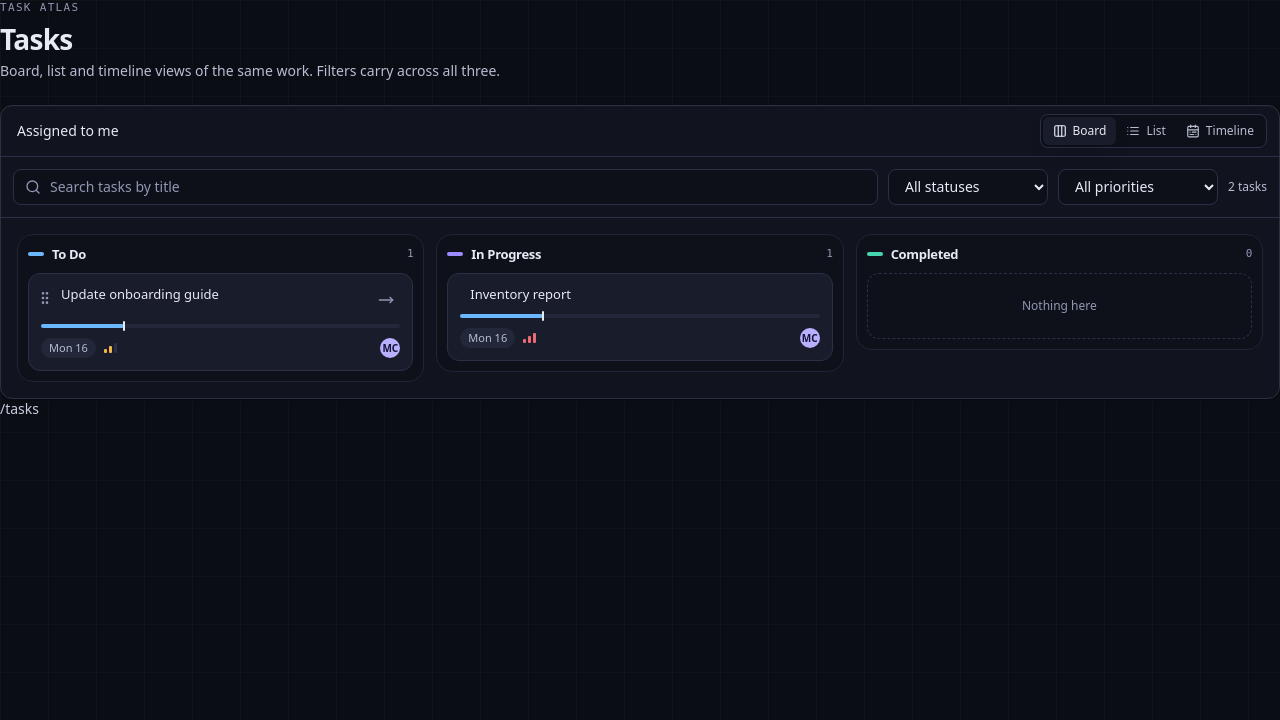
Scenario: Task Atlas › opens a task in the side panel and closes it with Escape
The width and height of the screenshot is (1280, 720).
Click the link "Update onboarding guide". click: click(140, 294)
box: [61, 285, 219, 303]
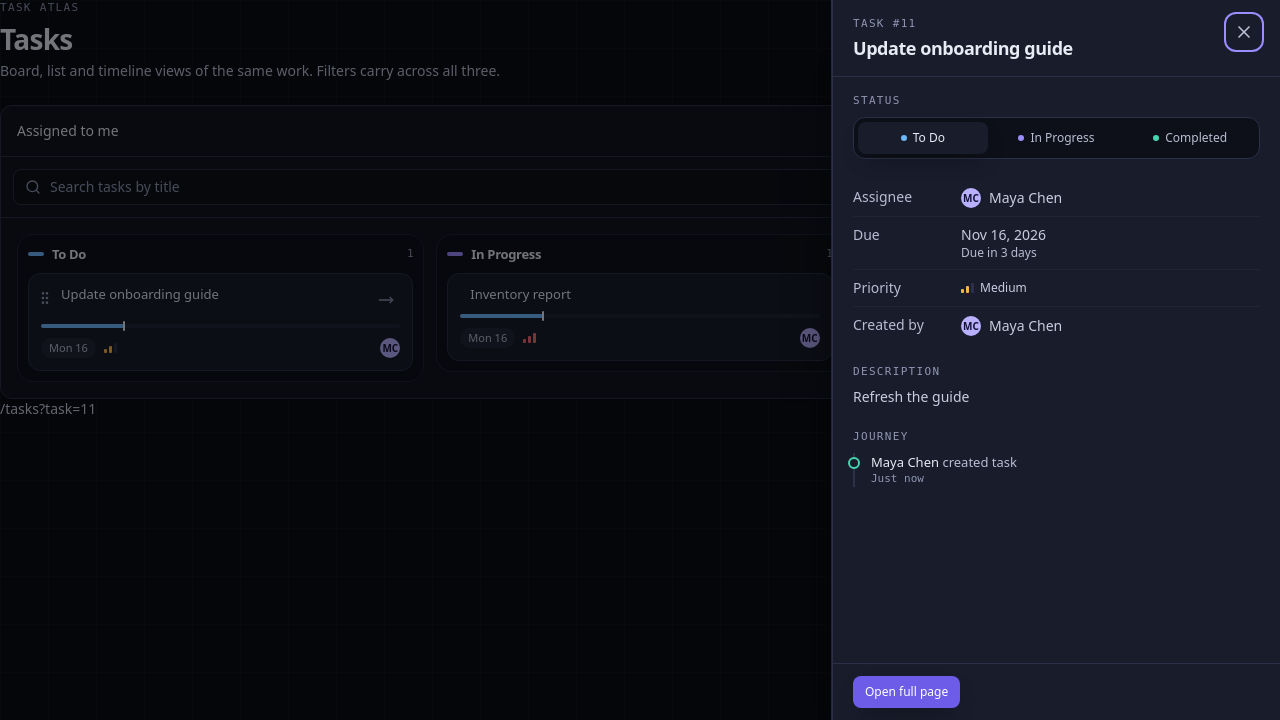
Check: the text "Refresh the guide" is shown, box [853, 387, 970, 406]
Check: the text with test id "url" shows "task=11", box [0, 399, 96, 418]
Press Escape
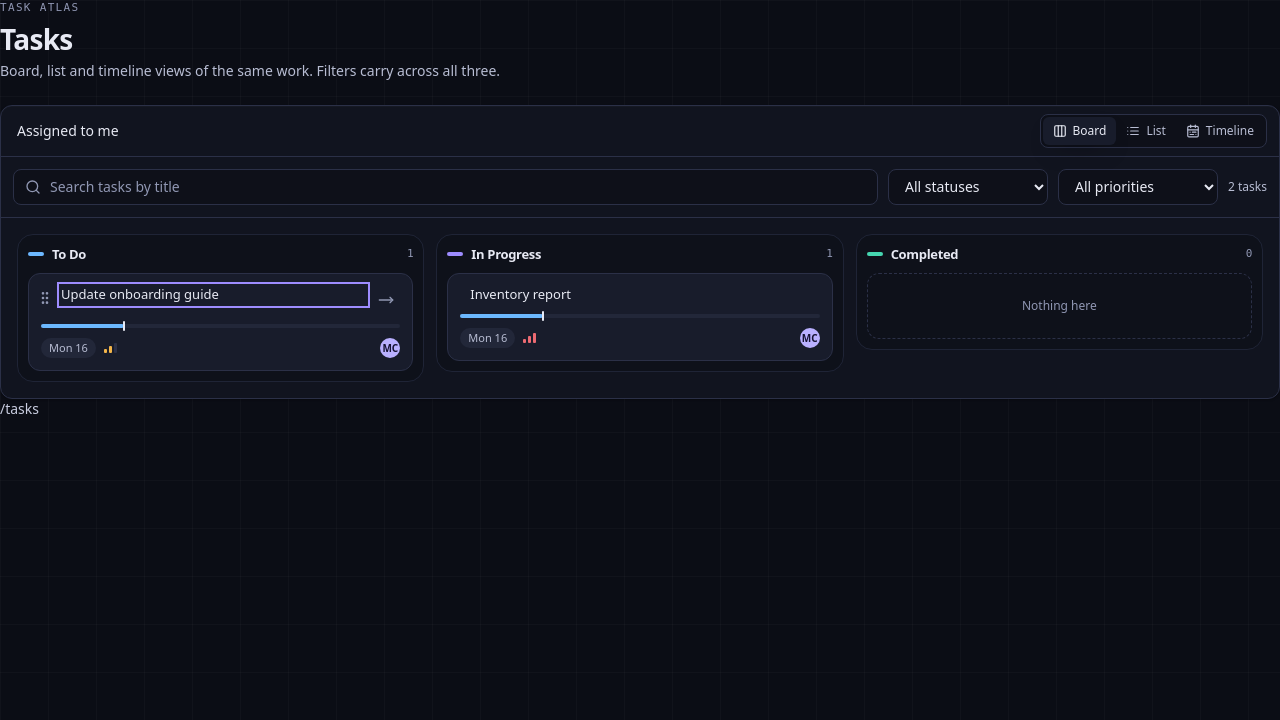
Check: the dialog is gone
Check: the text with test id "url" no longer shows "task=11", box [0, 399, 39, 418]
